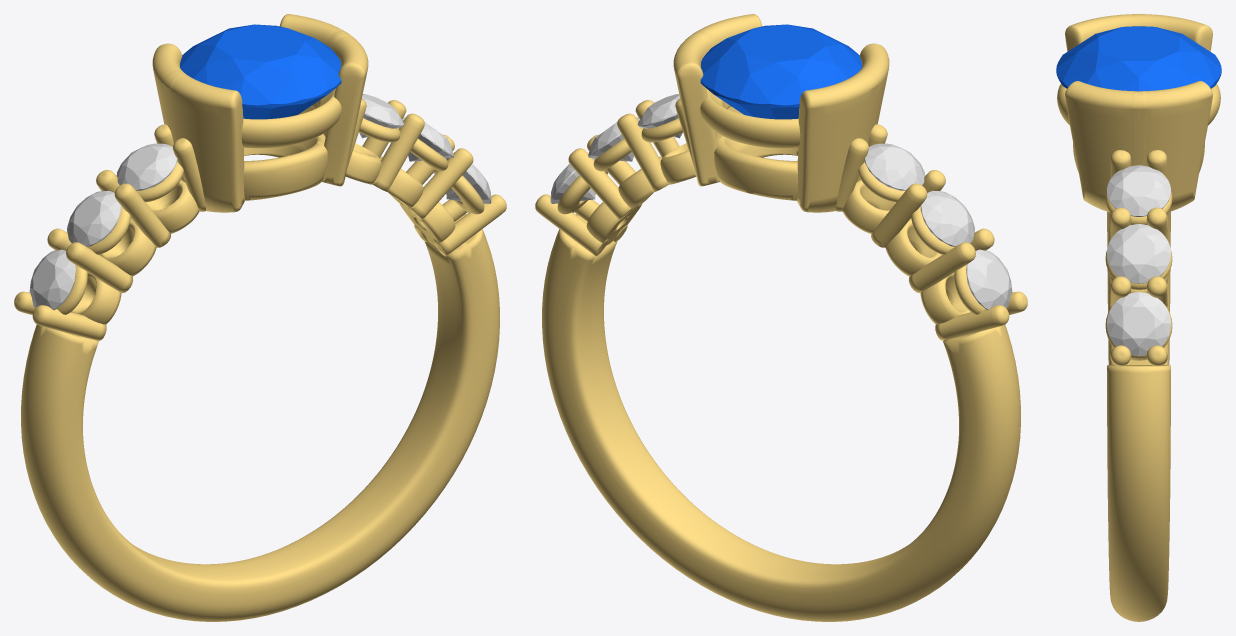
File: bluesapphire-round-yellowgold-halfmoonbezel-straightband-3stone.glb
3 renders of one model, left to right at view 1: azimuth 30°, elevation 25°; view 2: azimuth 150°, elevation 25°; view 3: azimuth 270°, elevation 25°, orthographic. The views are drawn at different scales.
Parts seen in each view (by area): view 1: metal, stone, side.004, side.005, side.003, side, side.001, side.002; view 2: metal, stone, side.004, side.005, side.003, side, side.001, side.002; view 3: metal, stone, side.002, side.001, side.
Boxes of the visible parts, bbox=[...] form: metal: bbox=[14, 14, 506, 621]; stone: bbox=[180, 24, 341, 119]; side.004: bbox=[67, 190, 121, 246]; side.005: bbox=[29, 249, 75, 310]; side.003: bbox=[116, 143, 177, 190]; side: bbox=[359, 94, 404, 138]; side.001: bbox=[402, 117, 453, 161]; side.002: bbox=[446, 158, 491, 203]; metal: bbox=[535, 14, 1027, 621]; stone: bbox=[700, 24, 861, 119]; side.004: bbox=[920, 190, 974, 246]; side.005: bbox=[966, 249, 1012, 310]; side.003: bbox=[864, 143, 925, 190]; side: bbox=[637, 94, 682, 138]; side.001: bbox=[588, 117, 639, 161]; side.002: bbox=[550, 158, 595, 203]; metal: bbox=[1057, 14, 1220, 621]; stone: bbox=[1056, 26, 1221, 91]; side.002: bbox=[1107, 292, 1170, 355]; side.001: bbox=[1107, 224, 1170, 283]; side: bbox=[1107, 165, 1170, 216].
Bounding box in the file's own units: 20.58 × 23.81 × 6.44.
